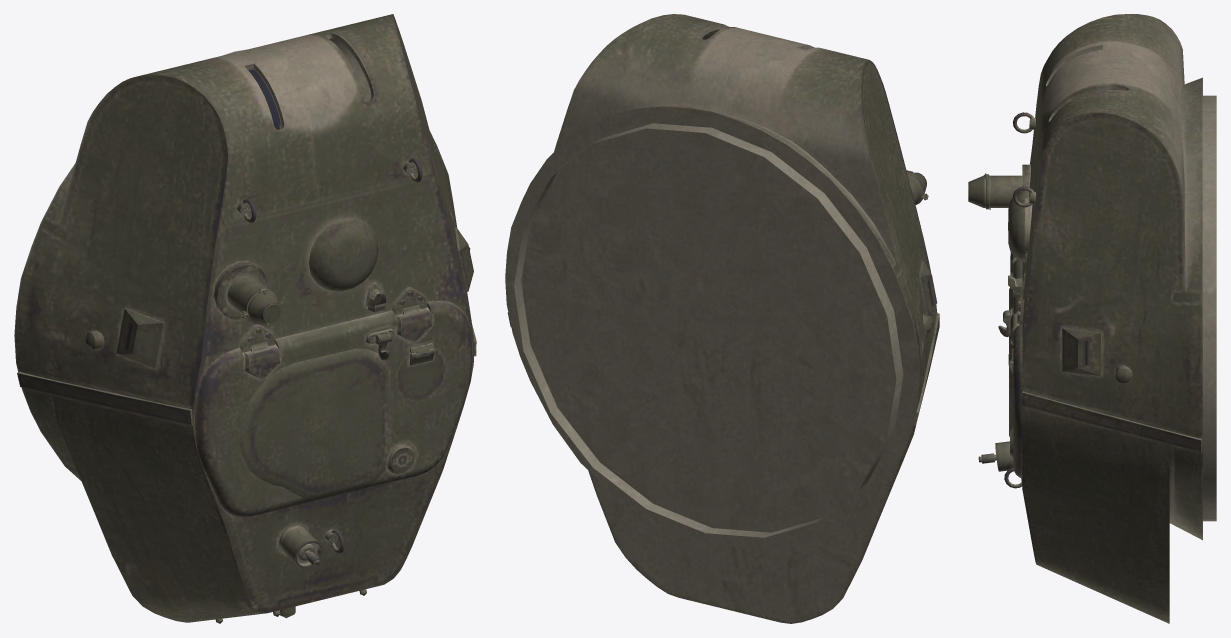
The model's file is Turret_01.glb.
3 views of the same model, side by side, from view 1: azimuth 30°, elevation 25°; view 2: azimuth 150°, elevation 25°; view 3: azimuth 270°, elevation 25° (orthographic). The views are drawn at different scales.
Parts seen in each view (by area): view 1: set_0_group_0; view 2: set_0_group_0; view 3: set_0_group_0.
Boxes of the visible parts, bbox=[...] form: set_0_group_0: bbox=[14, 14, 476, 623]; set_0_group_0: bbox=[505, 14, 939, 623]; set_0_group_0: bbox=[968, 14, 1216, 623].
Bounding box in the file's own units: 1.69 × 2.13 × 0.906.
Materials: 1 (1 with a texture image).
